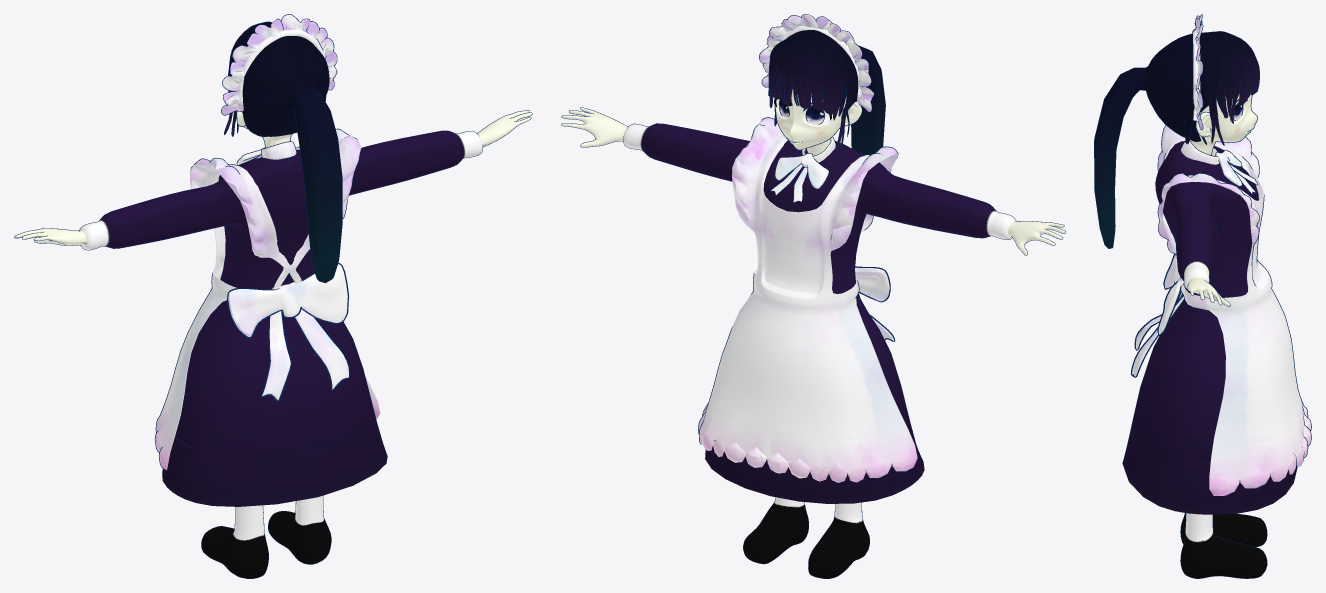
The model's file is maid.glb.
The picture shows the model from 3 angles, left to right: view 1: azimuth 30°, elevation 25°; view 2: azimuth 150°, elevation 25°; view 3: azimuth 270°, elevation 25°; orthographic projection. The views are drawn at different scales.
Visible parts, largest first — view 1: Body, Hair, Apron, BackKnot, Hairband, FrontKnot; view 2: Apron, Body, Hair, Hairband, Head, FrontKnot, BackKnot; view 3: Body, Apron, Hair, BackKnot, Head, FrontKnot, Hairband.
Part boxes in pixels (x1,y1,x2,y2): Body: [14, 110, 532, 578]; Hair: [224, 21, 342, 283]; Apron: [154, 128, 380, 470]; BackKnot: [227, 263, 350, 401]; Hairband: [221, 14, 337, 115]; FrontKnot: [236, 141, 296, 164]; Apron: [698, 117, 917, 482]; Body: [561, 107, 1065, 578]; Hair: [768, 30, 885, 154]; Hairband: [759, 14, 874, 112]; Head: [775, 89, 862, 155]; FrontKnot: [770, 137, 836, 202]; BackKnot: [855, 266, 895, 341]; Body: [1122, 141, 1297, 578]; Apron: [1157, 125, 1311, 495]; Hair: [1094, 31, 1259, 248]; BackKnot: [1131, 254, 1184, 377]; Head: [1190, 93, 1257, 155]; FrontKnot: [1180, 140, 1258, 194]; Hairband: [1192, 14, 1203, 130].
Bounding box in the file's own units: 9.39 × 9.58 × 3.5.
Materials: 2 (1 with a texture image).
